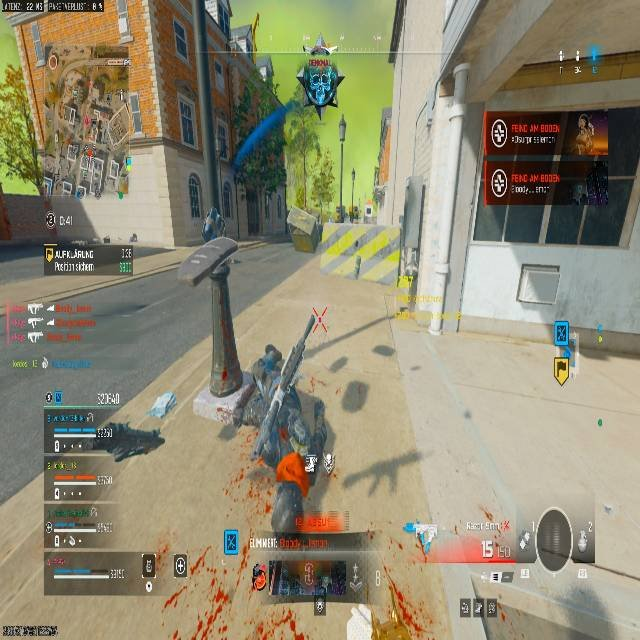player: (297, 45, 347, 143)
